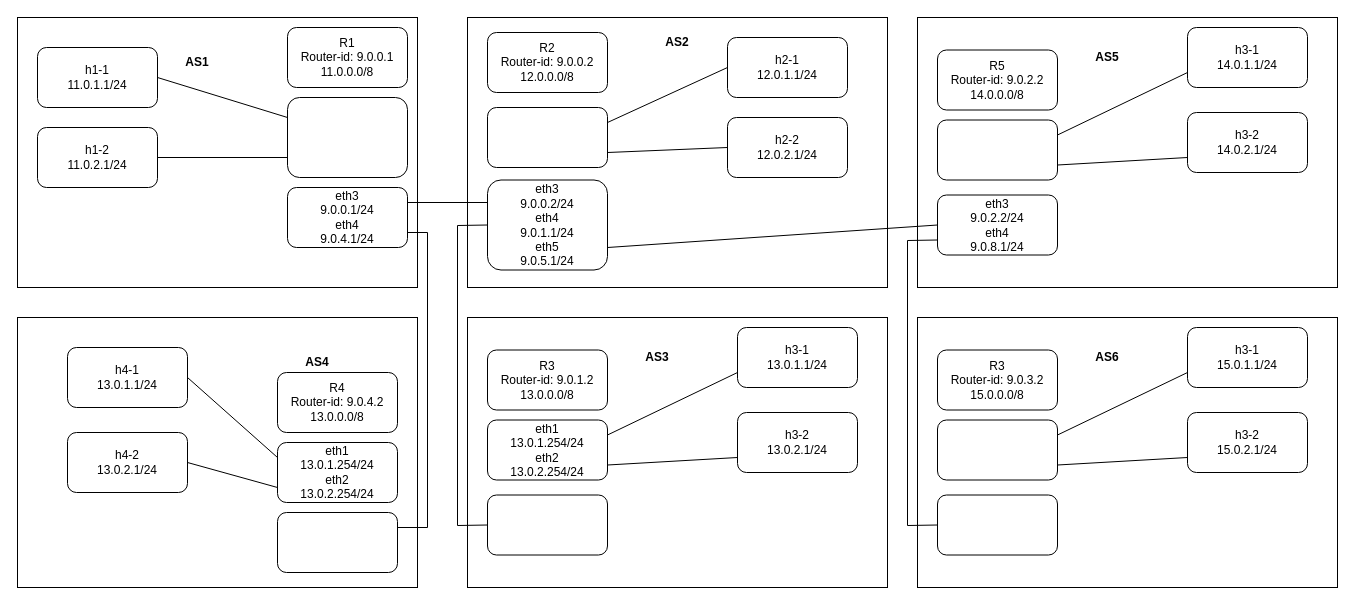
Some shapes in this 1355 by 605 pixel diagram are drawn without their labels. Here are the shapes that lost their labels. From the top down, the centre of each, then its label:
point (347, 137): eth1 11.0.1.254/24 eth2 11.0.2.254/24
point (547, 137): eth1 12.0.1.254/24 eth2 12.0.2.254/24
point (997, 149): eth1 14.0.1.254/24 eth2 14.0.2.254/24
point (997, 449): eth1 15.0.1.254/24 eth2 15.0.2.254/24
point (337, 542): eth3 9.0.4.2/24
point (547, 524): eth3 9.0.1.2/24
point (997, 524): eth3 9.0.3.2/24
